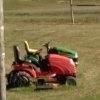Tractor: (15, 32, 88, 89)
